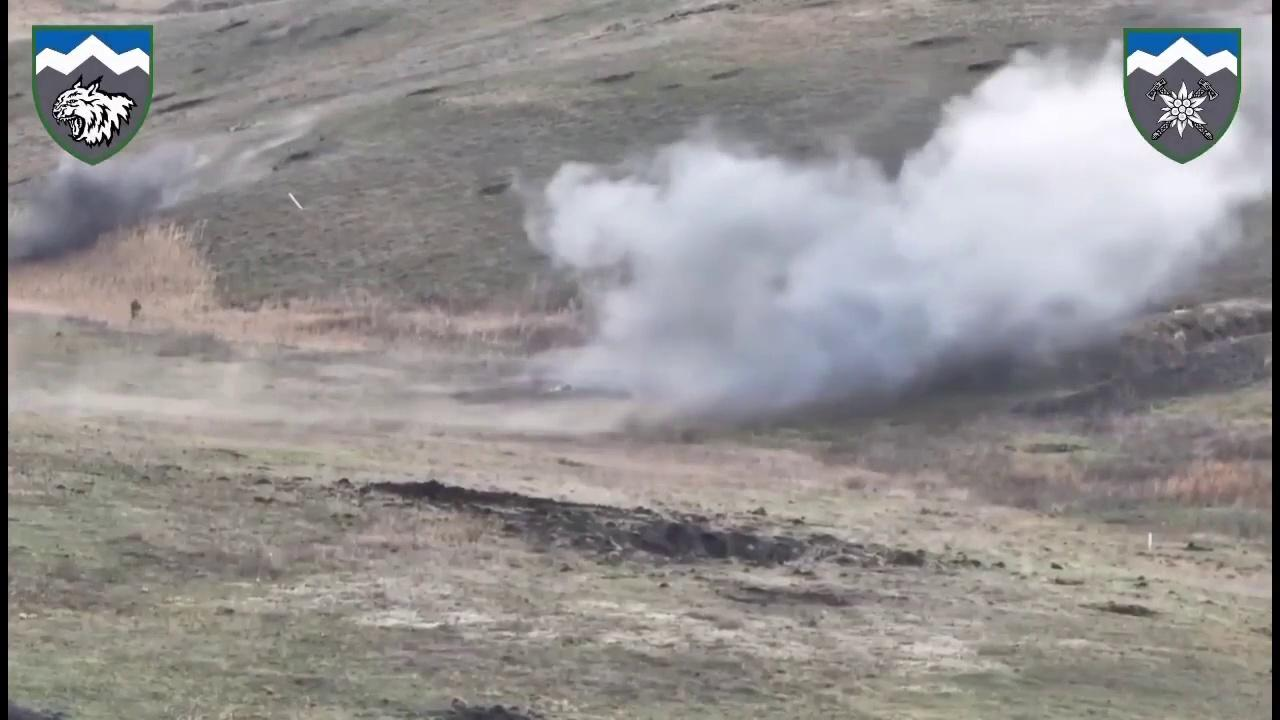person: (128, 296, 140, 320)
